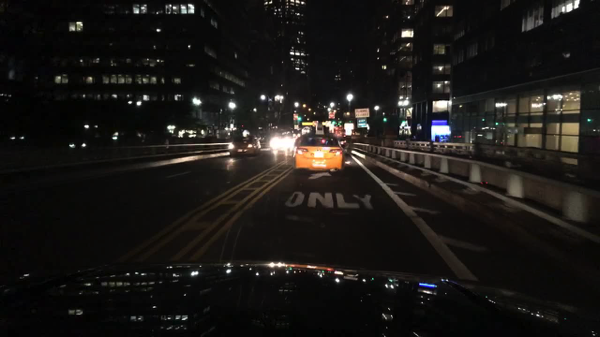car: (296, 122, 344, 172), (229, 134, 261, 158), (11, 128, 37, 147), (271, 132, 293, 154), (68, 137, 91, 150), (109, 130, 127, 144), (300, 126, 311, 138)
traffic light: (382, 115, 388, 124), (402, 117, 408, 125)
traffic sign: (290, 112, 299, 121), (355, 111, 367, 117), (359, 119, 367, 127), (328, 111, 335, 118)
truck: (342, 121, 352, 143)
